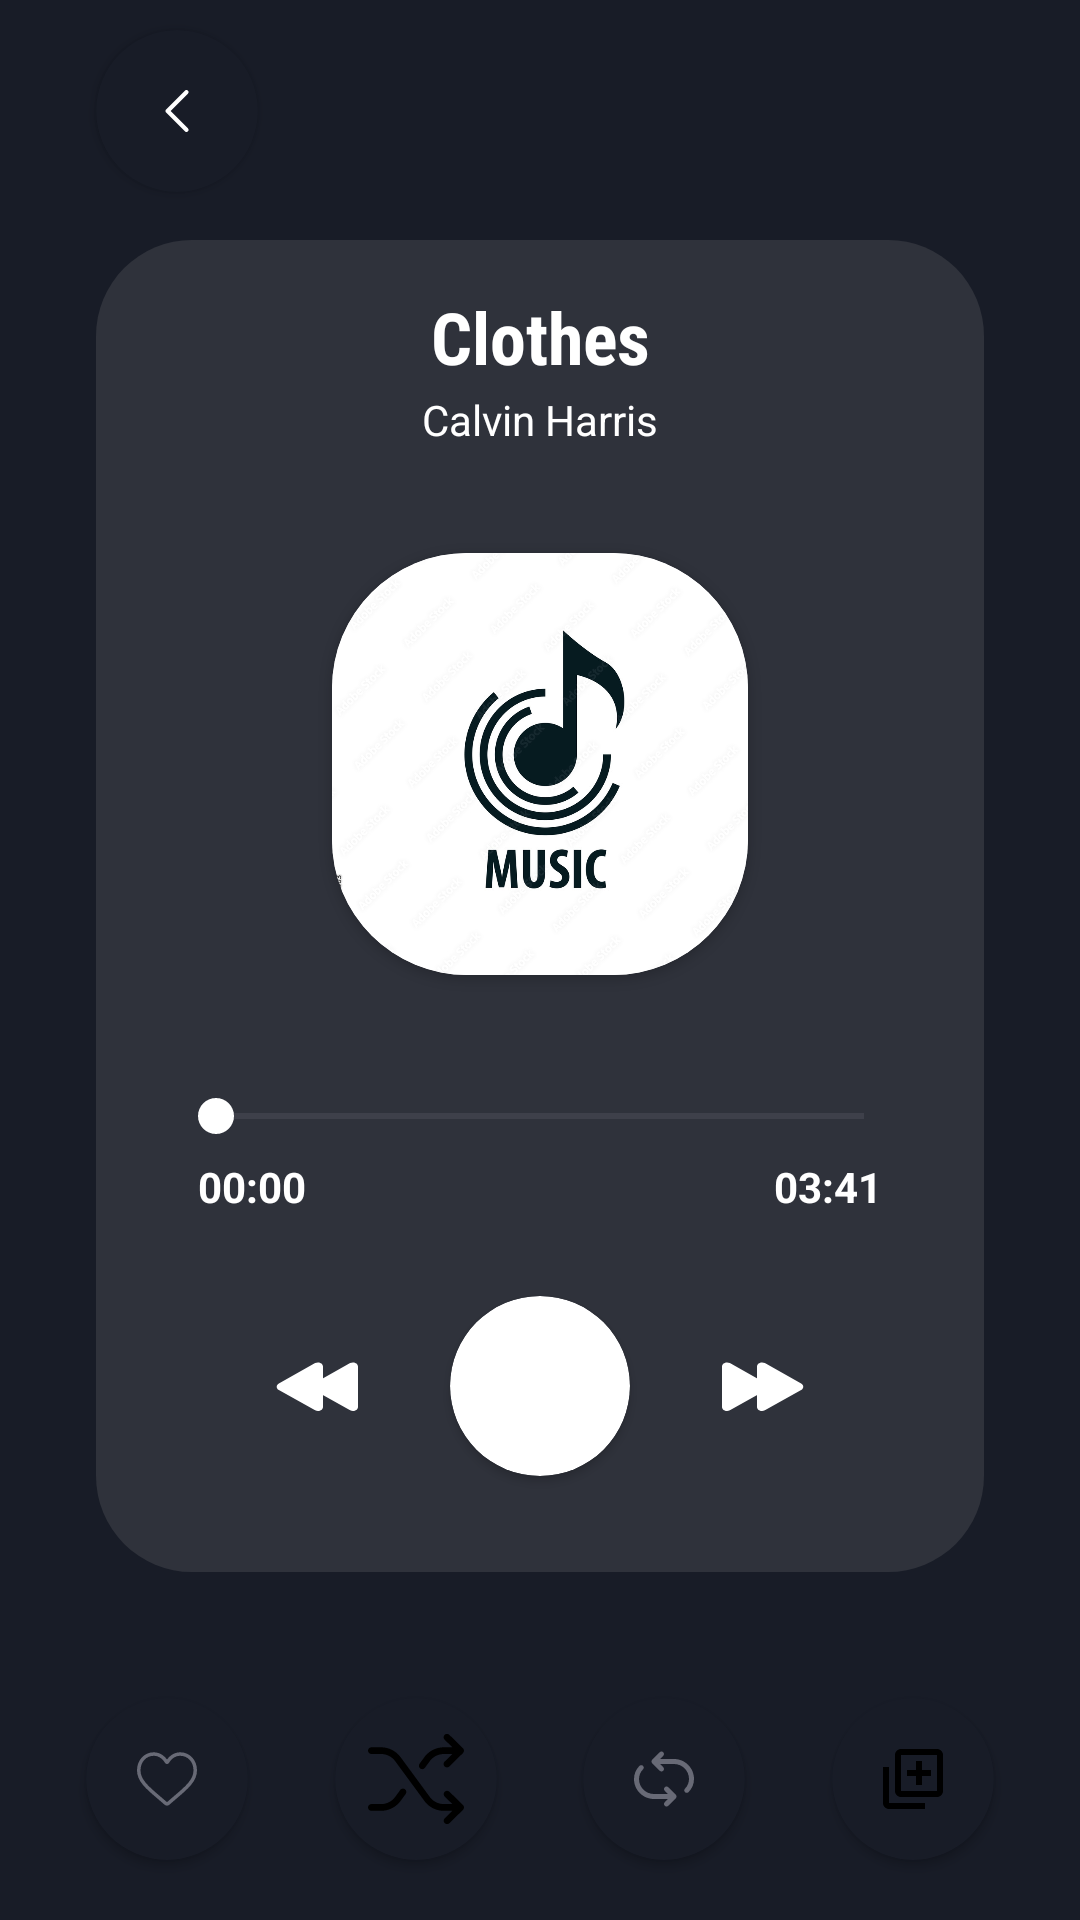

Where to tap for icons on this 1080*1920 app screen, as (x,y):
add to queue: (913,1779)
back: (177,111)
heart: (167,1779)
next: (763,1386)
previous: (317,1386)
repeat: (664,1779)
shuffle: (416,1779)
